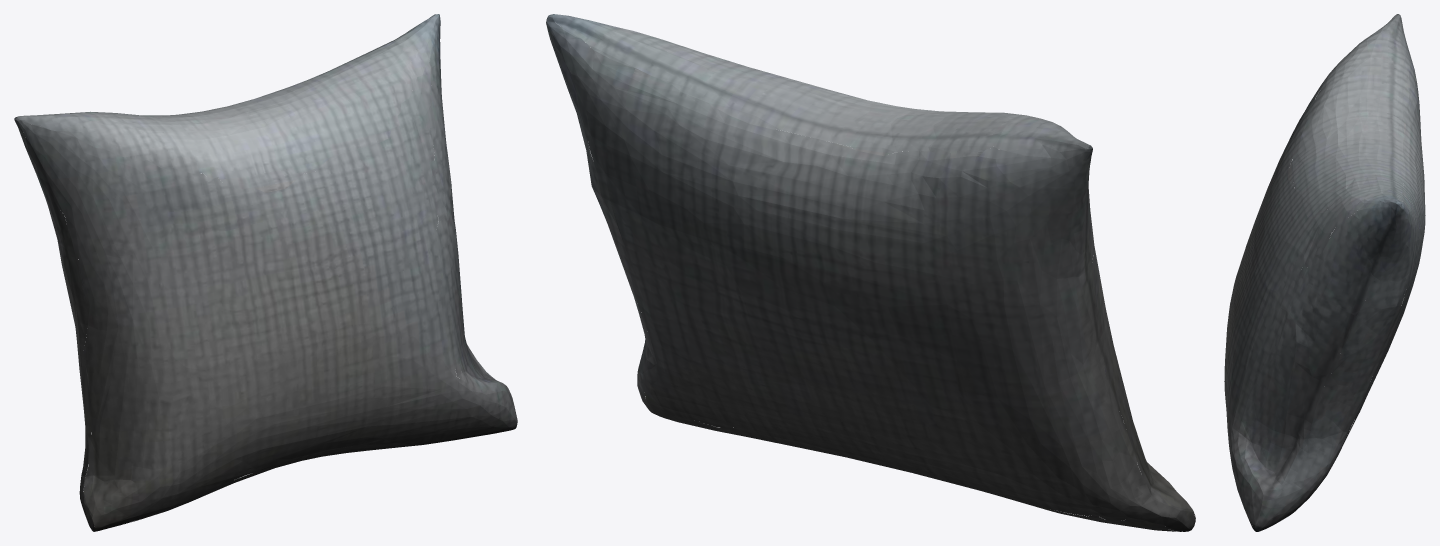
File: pillow.glb
The picture shows the model from 3 angles, left to right: view 1: azimuth 30°, elevation 25°; view 2: azimuth 150°, elevation 25°; view 3: azimuth 270°, elevation 25°; orthographic projection. The views are drawn at different scales.
Parts seen in each view (by area): view 1: geometry_0; view 2: geometry_0; view 3: geometry_0.
Boxes of the visible parts, left/top/right/bottom form: geometry_0: left=14, top=14, right=517, bottom=531; geometry_0: left=546, top=14, right=1195, bottom=531; geometry_0: left=1224, top=14, right=1425, bottom=531.
Bounding box in the file's own units: 0.9996 × 0.8047 × 0.4436.
1 material, 1 textured.
